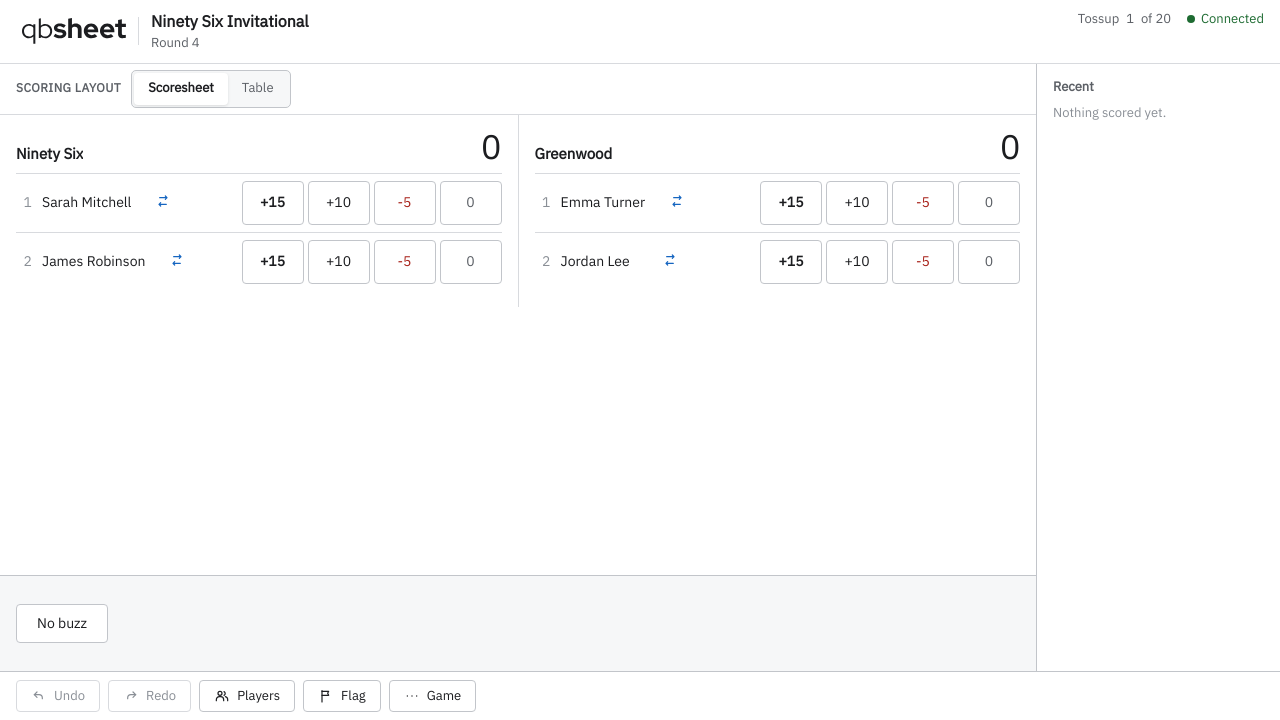
Test: what the editor leads with › the lineup and the technical explanation wait behind Correction details
Click the button "+10" in the row of "Sarah Mitchell" at point(338, 203), box left=308, top=181, right=370, bottom=225
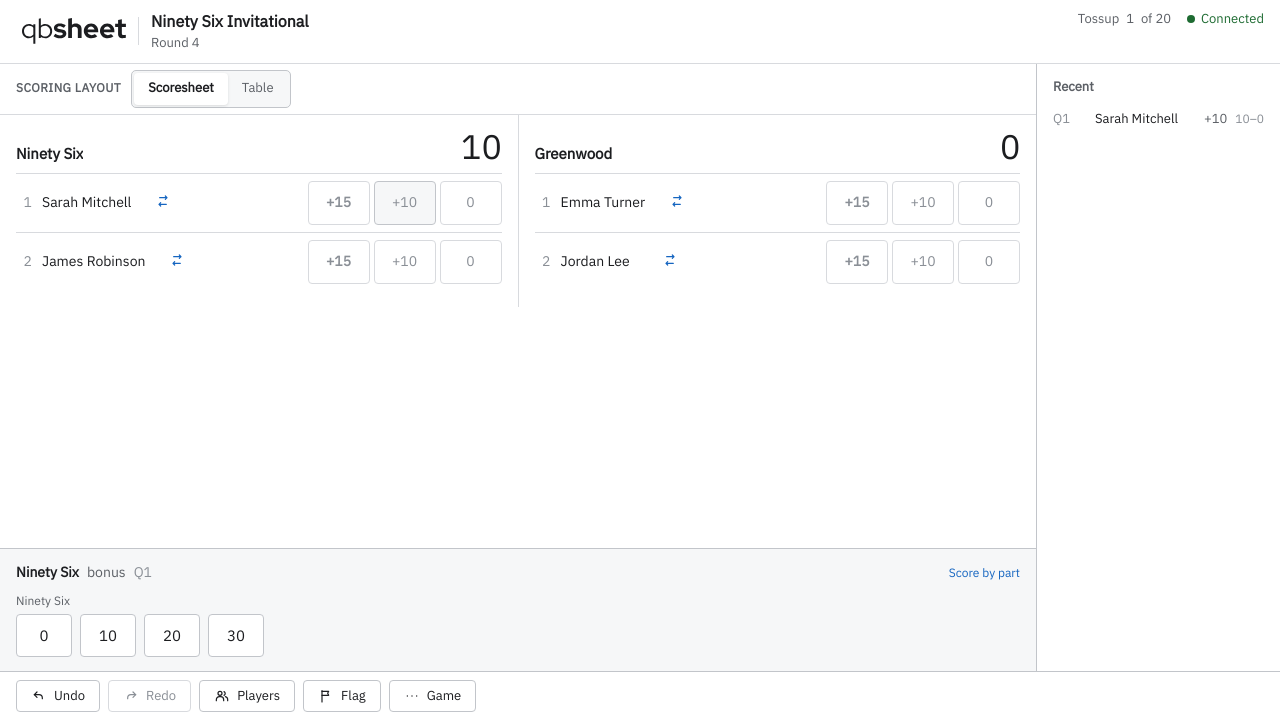
Click the text "Game" at point(444, 696), box left=427, top=687, right=461, bottom=705
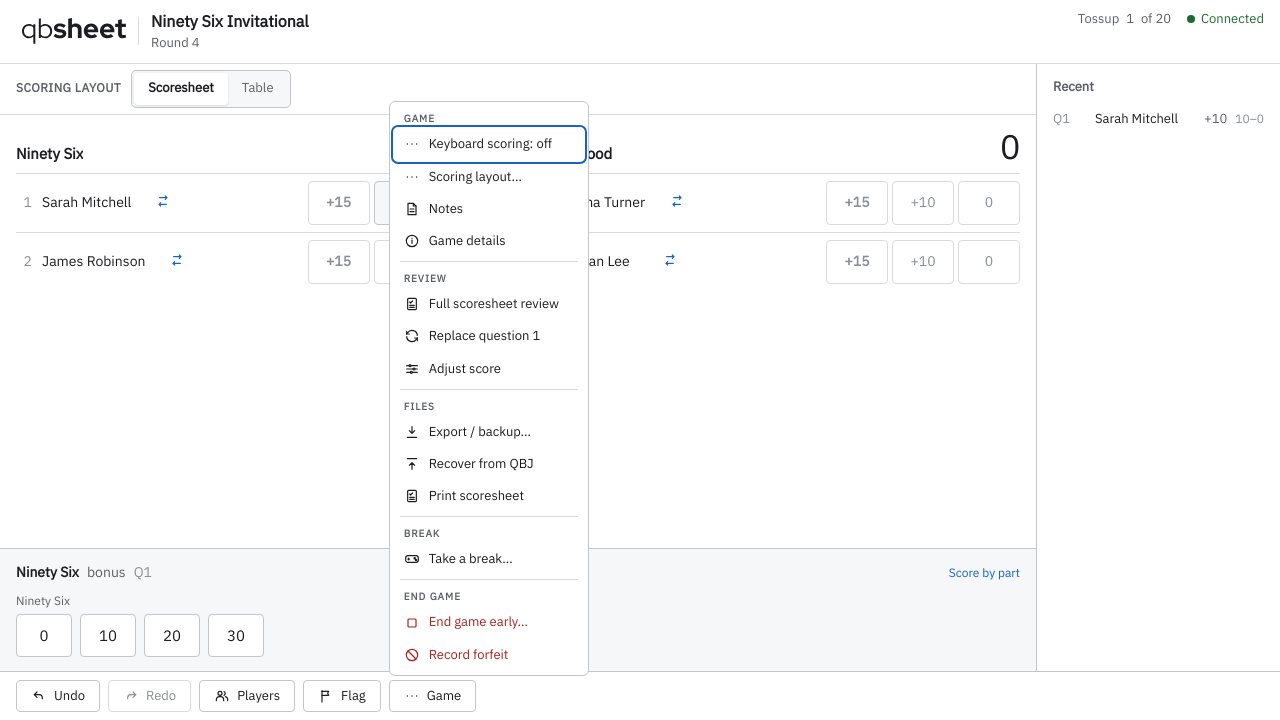
Click the menu item "Full scoresheet review" at point(489, 304), box left=394, top=288, right=584, bottom=320
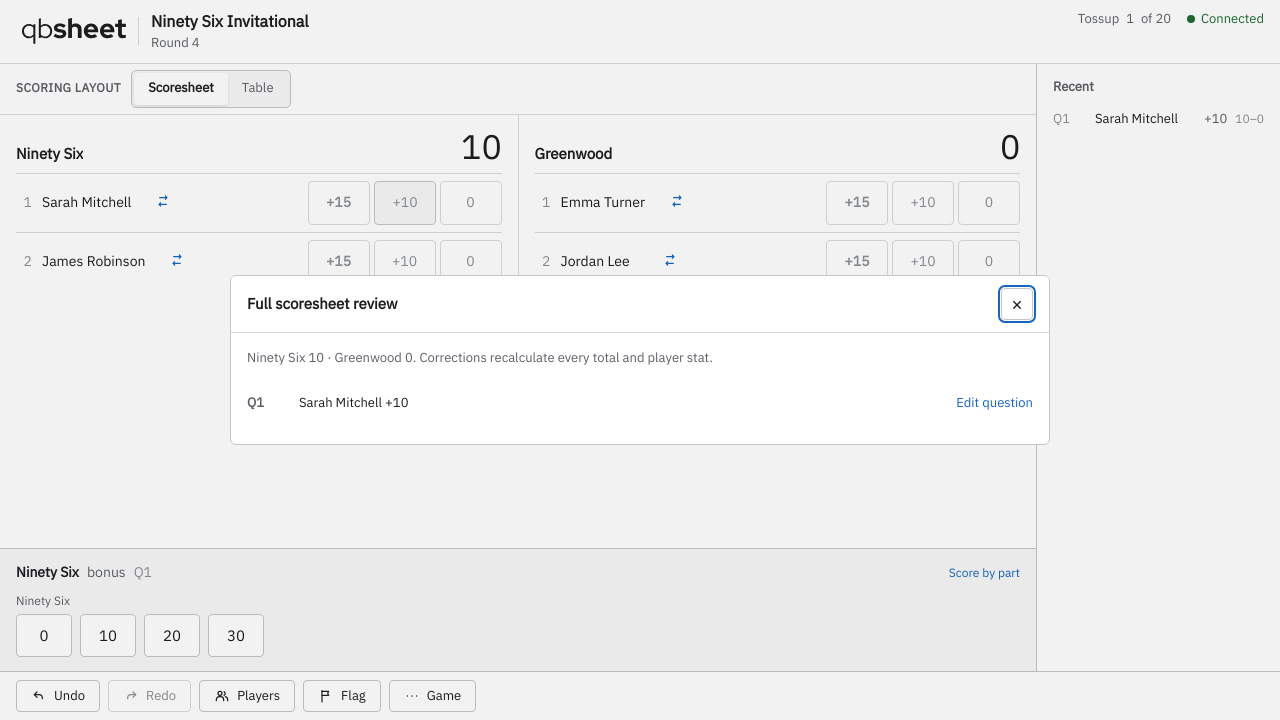
Click the button "Edit question" at point(995, 403), box left=956, top=394, right=1033, bottom=412
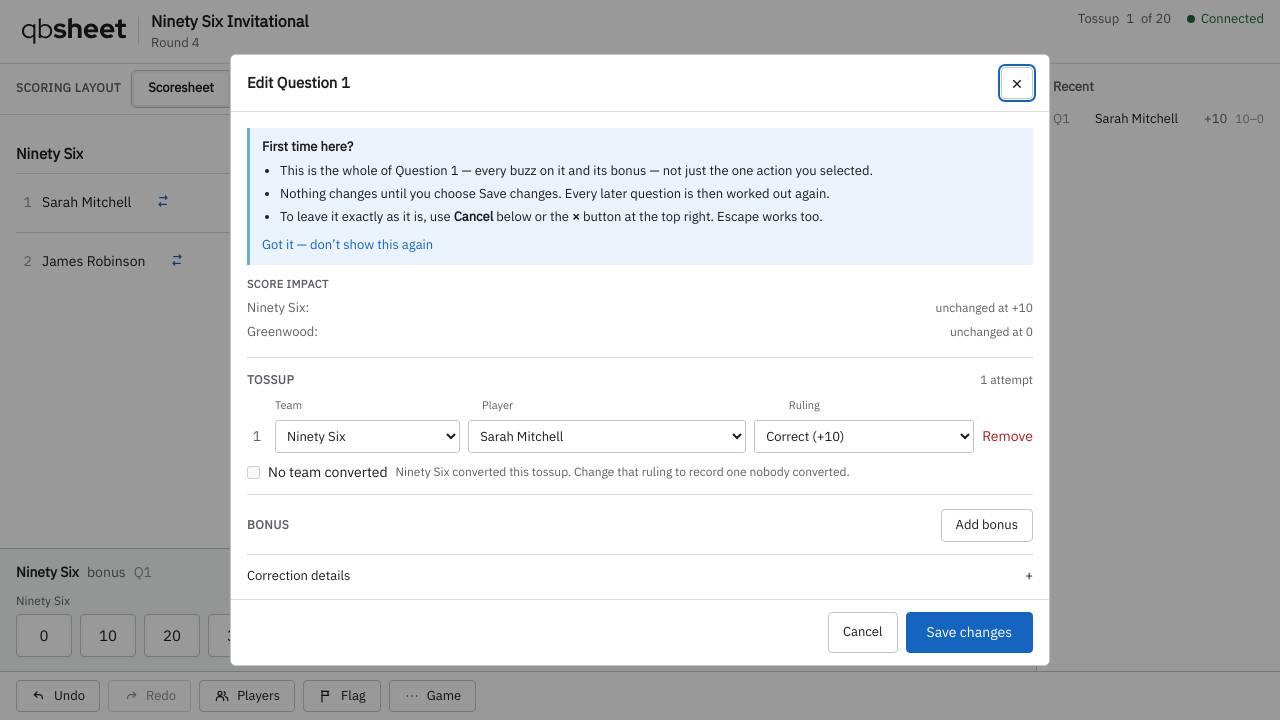
Check: the text "On the floor" is not shown
Click the text "Correction details" at point(299, 576), box left=247, top=567, right=350, bottom=585
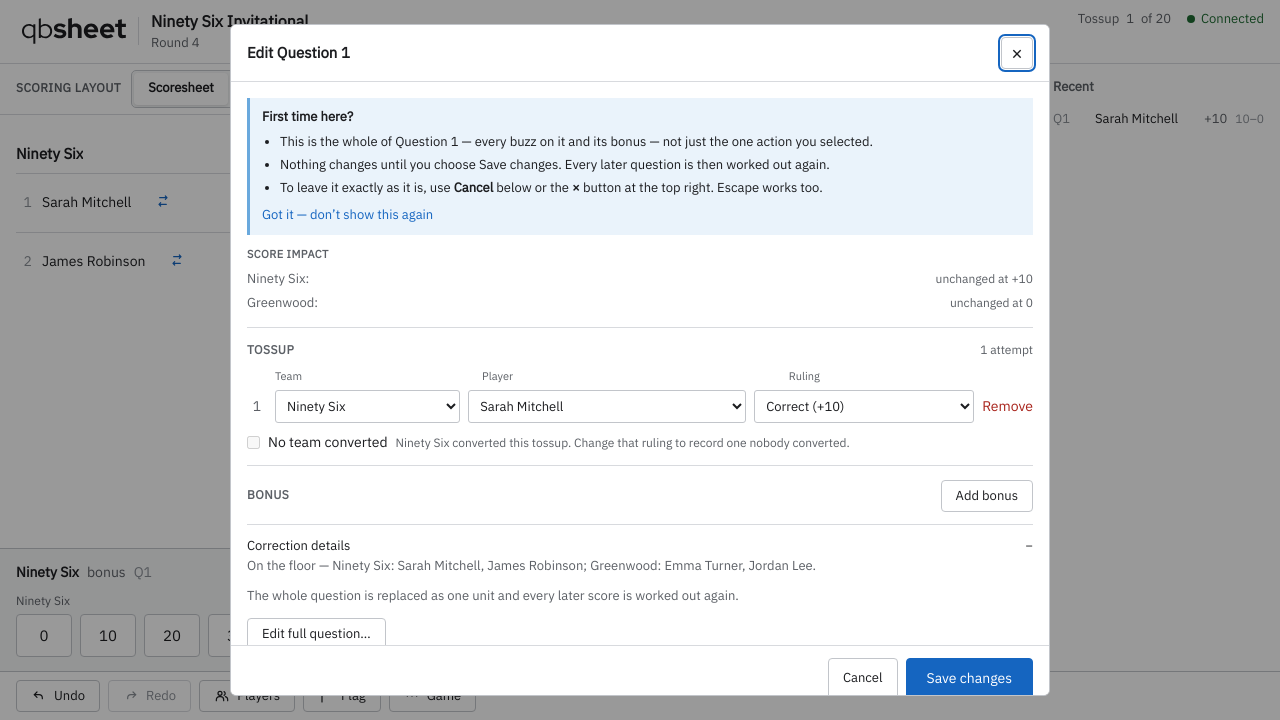
Check: the text "On the floor" is shown, box left=247, top=557, right=332, bottom=574
